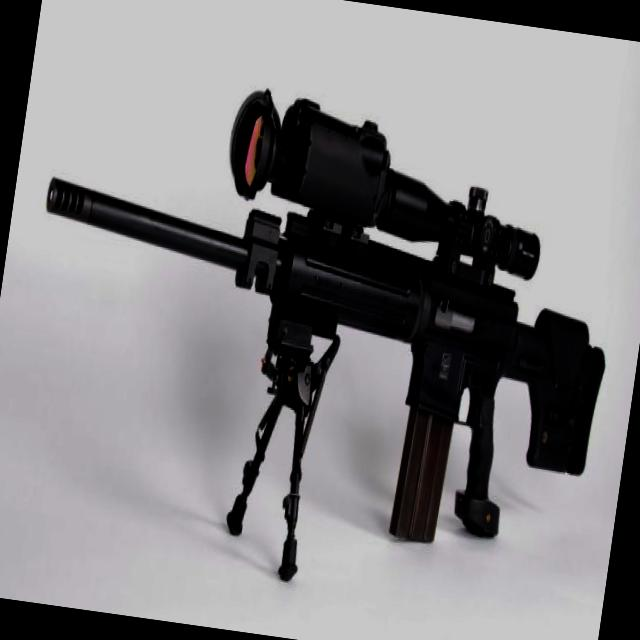rifle: (0, 58, 640, 626)
